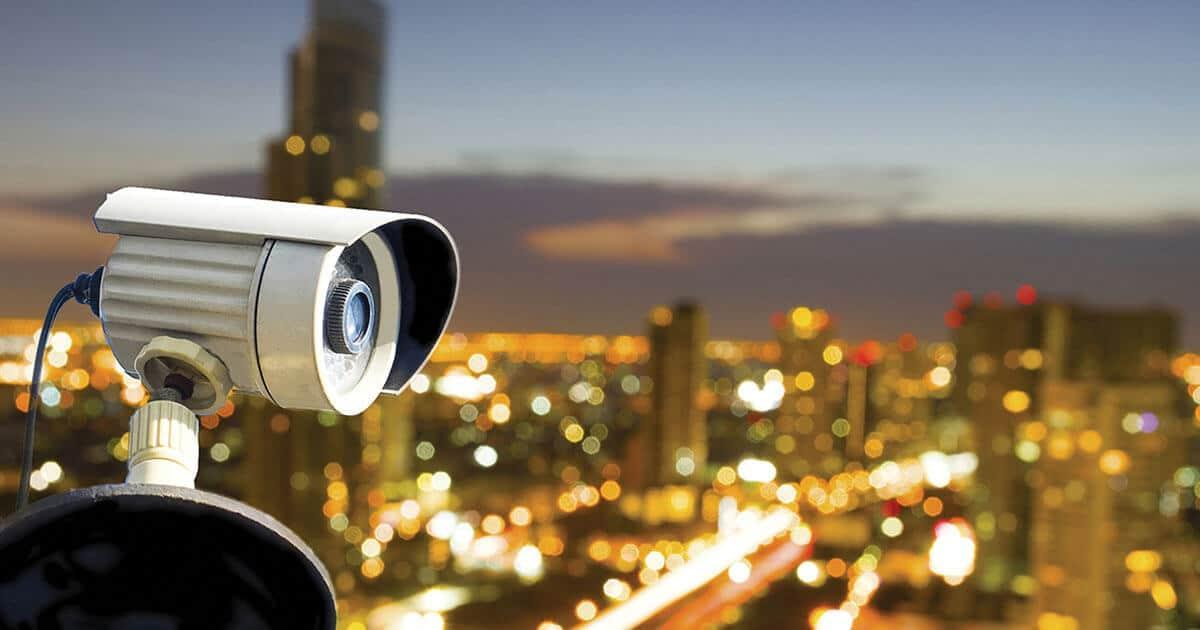camera: (48, 132, 467, 440)
